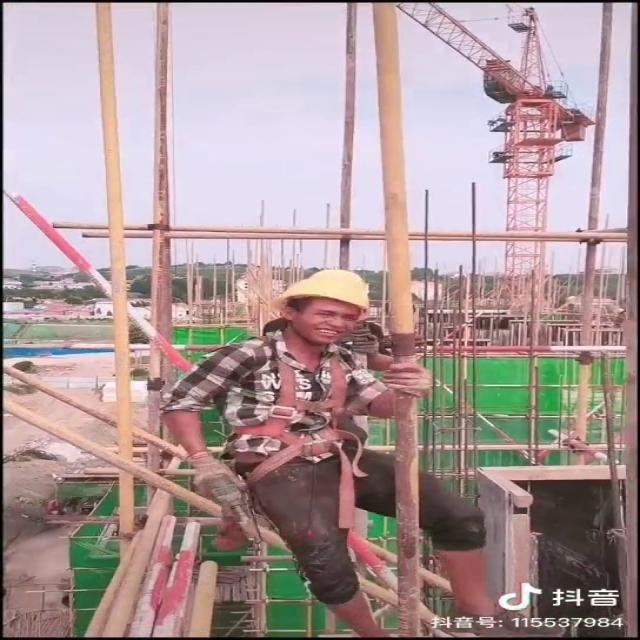Arnes_seguridad: (215, 341, 374, 488)
